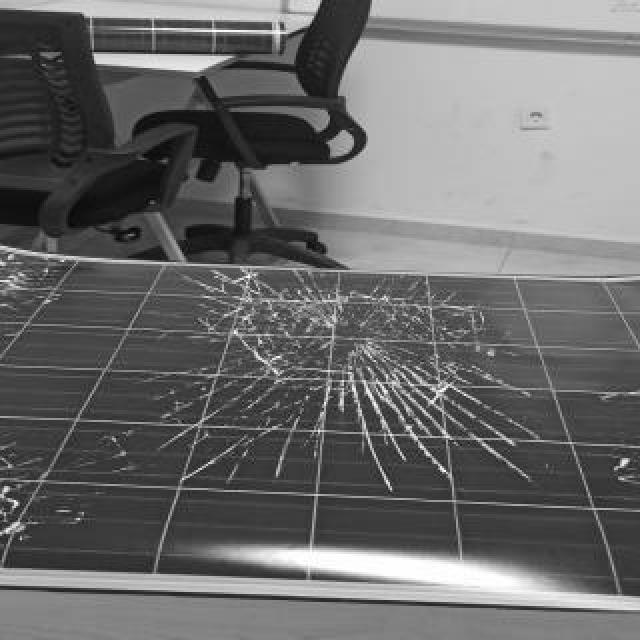Physical-damage: (124, 267, 581, 504), (0, 436, 68, 563), (0, 252, 88, 320)
